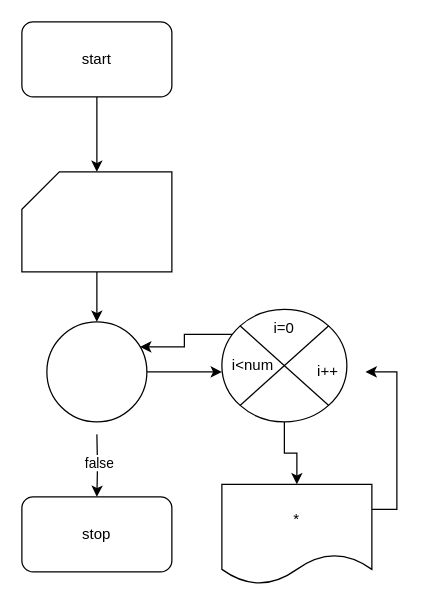
Image size: 429x606. Some labels were removed from this diagram. The centre of each missing label's shape, as x and y in pixels:
"num" belongs at point 96,221.
"num>0" belongs at point 96,371.
